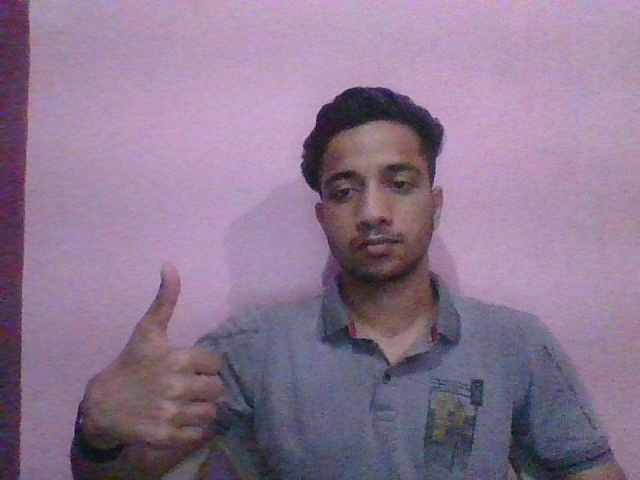thumbsup: (97, 262, 226, 450)
